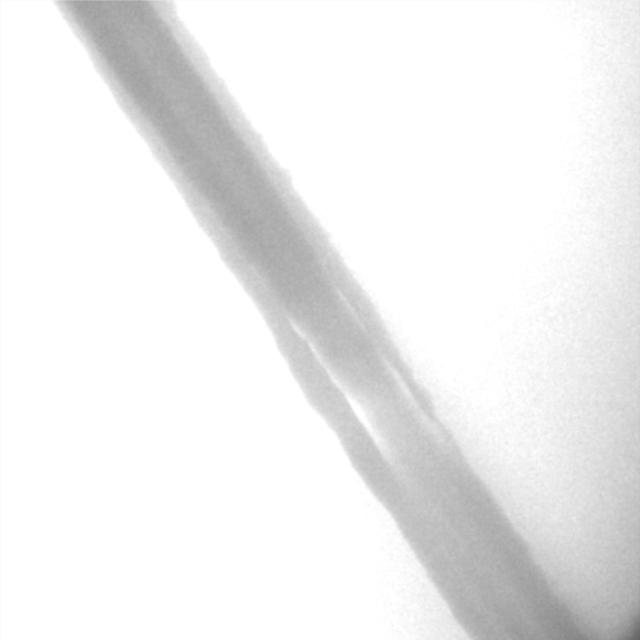unfused: (290, 286, 433, 467)
